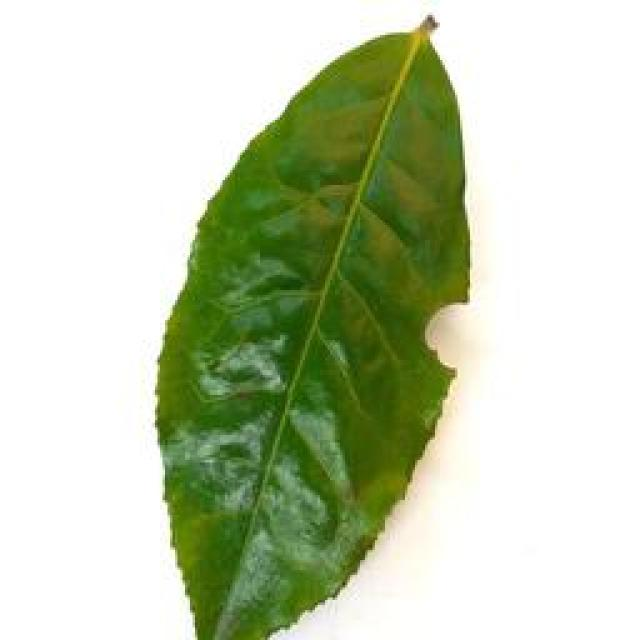Healthy: (148, 10, 478, 640)
